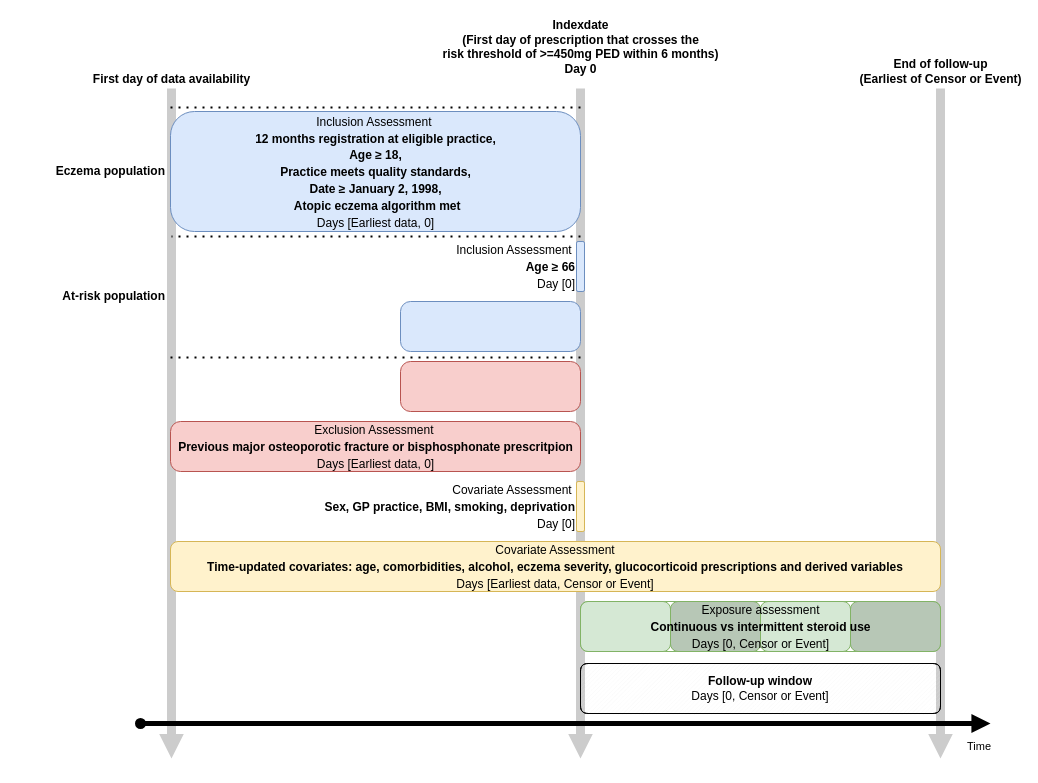
The diagram is 1038 pixels wide and 783 high, and some of its shapes have lost their labels. Here are the shapes that lost their labels. From the top down, the centre of each, then its label:
At (x=490, y=326): "Inclusion Assessment Cumulative PED ≥ 450mg Days [-180, 0]".
At (x=490, y=386): "Exclusion Assessment Previous Cancer Diagnosis Days [-180, 0]".
